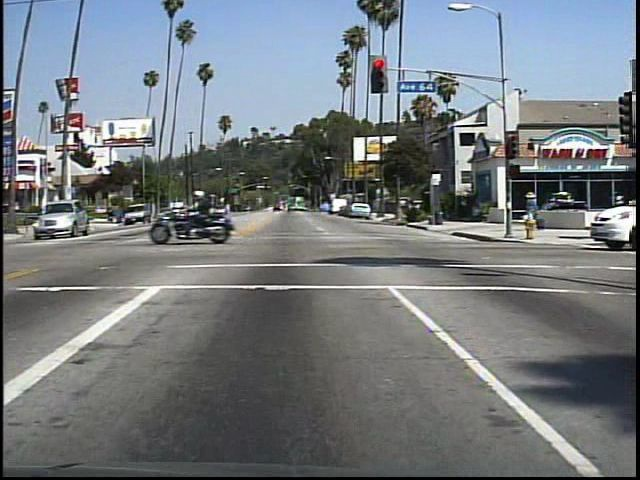person: (192, 185, 229, 243), (519, 186, 545, 217)
